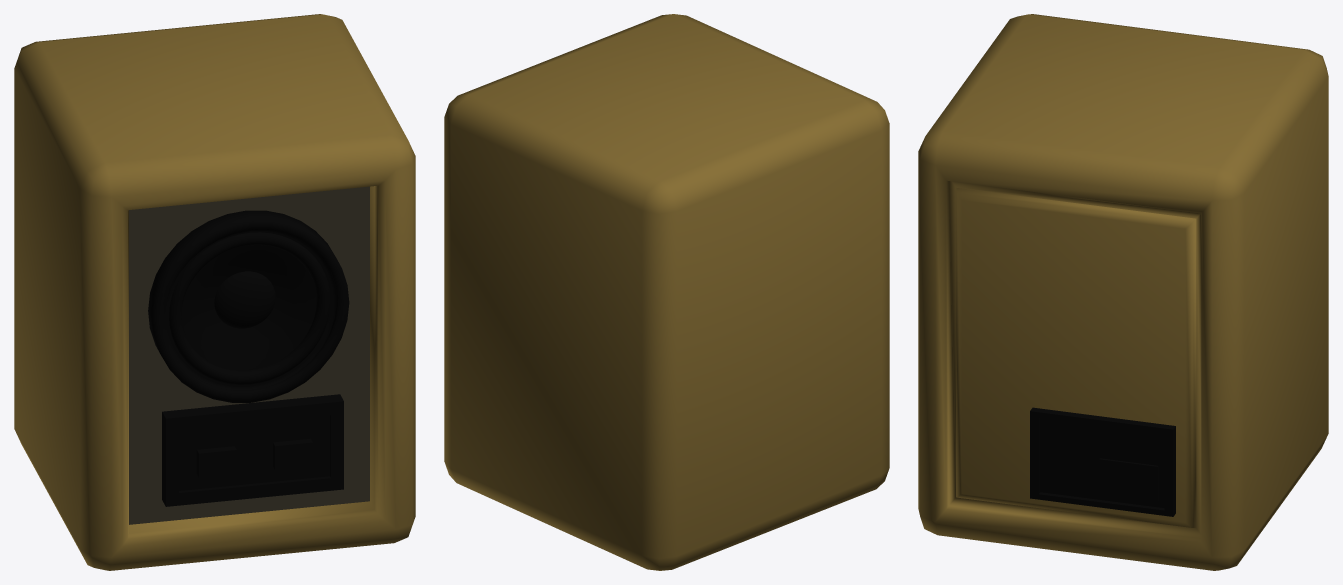
The model's file is SYSTEMESON2.fbx.
The picture shows the model from 3 angles, left to right: view 1: azimuth 30°, elevation 25°; view 2: azimuth 150°, elevation 25°; view 3: azimuth 270°, elevation 25°; orthographic projection. The views are drawn at different scales.
Visible parts, largest first — view 1: Plane.012; view 2: Plane.012; view 3: Plane.012.
Part boxes in pixels (x1,y1,x2,y2): Plane.012: (14, 14, 415, 570); Plane.012: (444, 14, 889, 570); Plane.012: (918, 14, 1328, 570).
Size of the model in its own units: 732 by 793 by 732.
